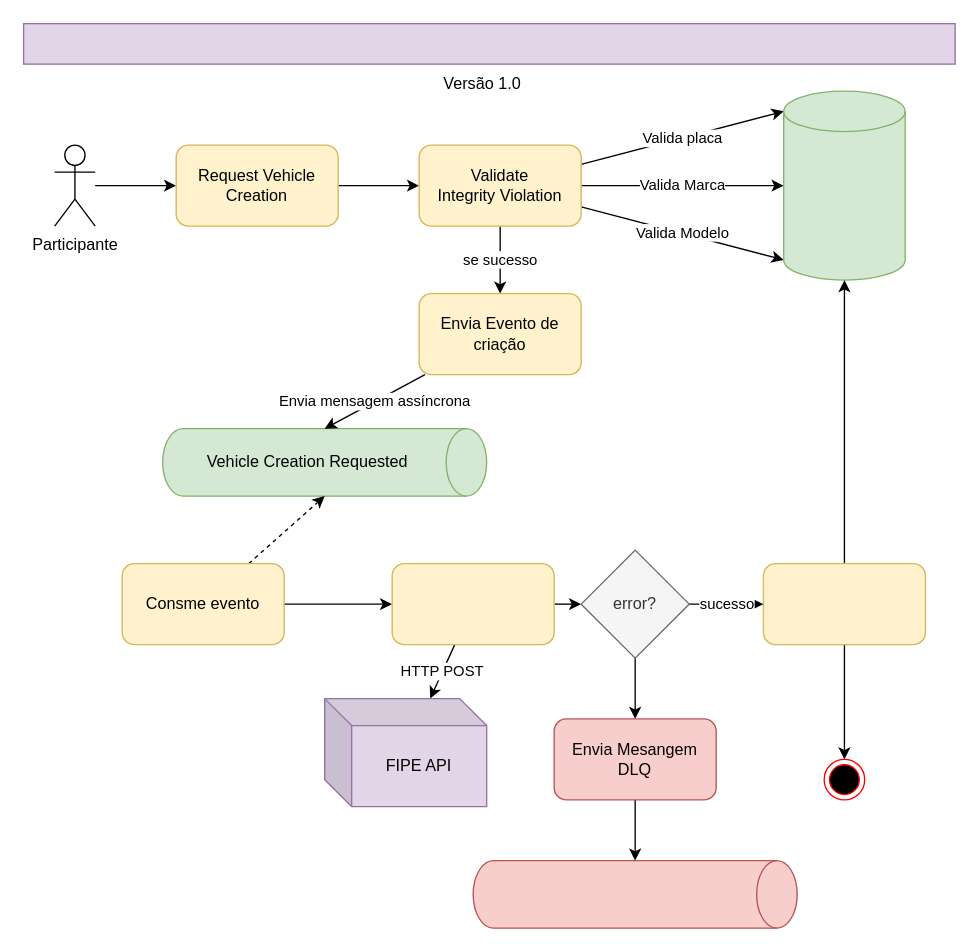
The diagram is 979 pixels wide and 952 high, and some of its shapes have lost their labels. Here are the shapes that lost their labels. From the top down, the box of each, then its label:
(22, 22, 955, 64): API Vehicle Architecture
(782, 90, 905, 280): PostgreSQL
(391, 562, 554, 645): Request FIPE price of vehicle
(762, 562, 925, 645): Save vehicle entity
(472, 859, 797, 928): Vehicle Creation Requested DLQ
